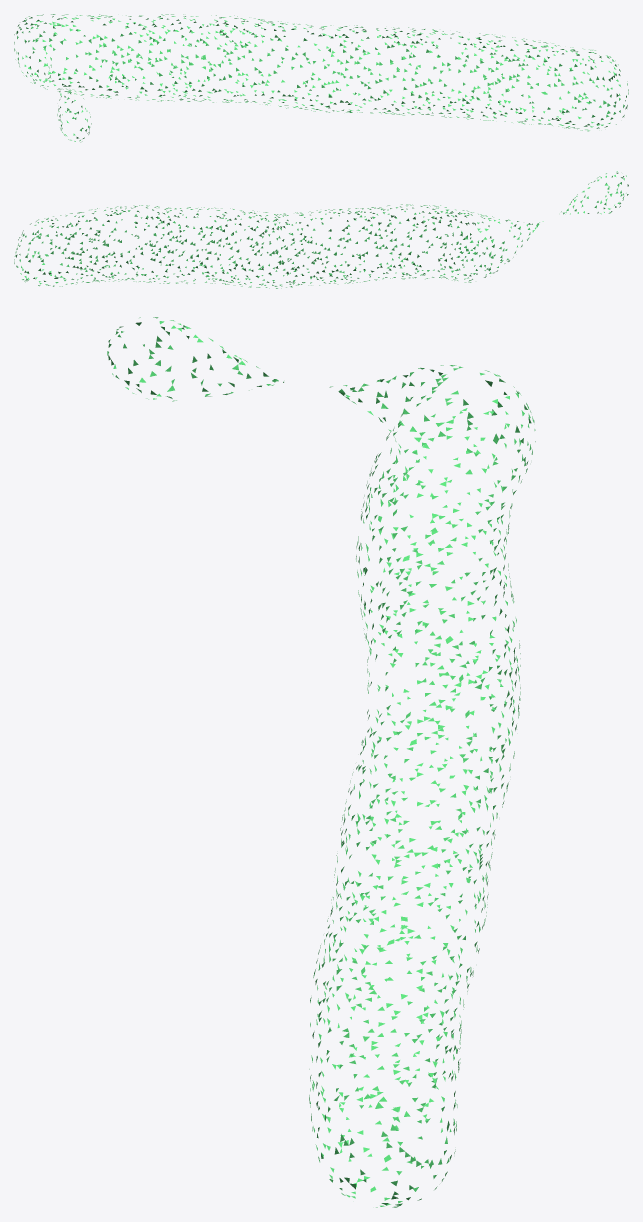
Rendered from morph_020.glb.
The picture shows the model from 3 angles, top to bottom: view 1: azimuth 30°, elevation 25°; view 2: azimuth 150°, elevation 25°; view 3: azimuth 270°, elevation 25°; orthographic projection. The views are drawn at different scales.
Bounding box in the file's own units: 124 × 42.2 × 42.46.
